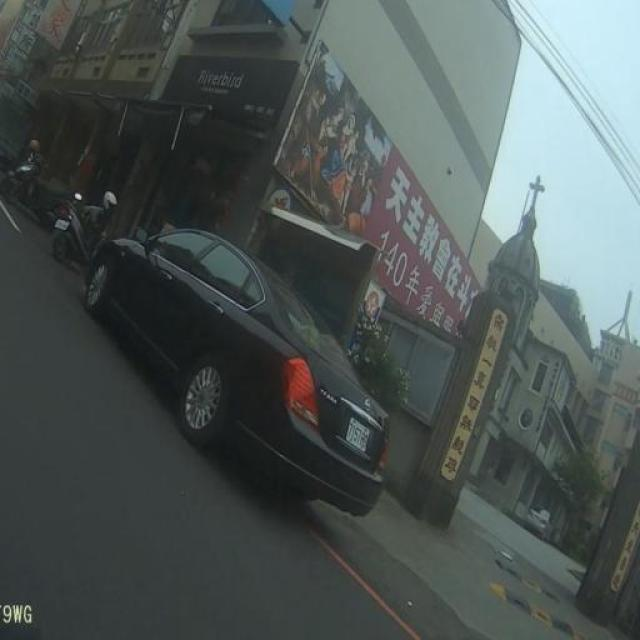Legalparking: (51, 180, 436, 530)
